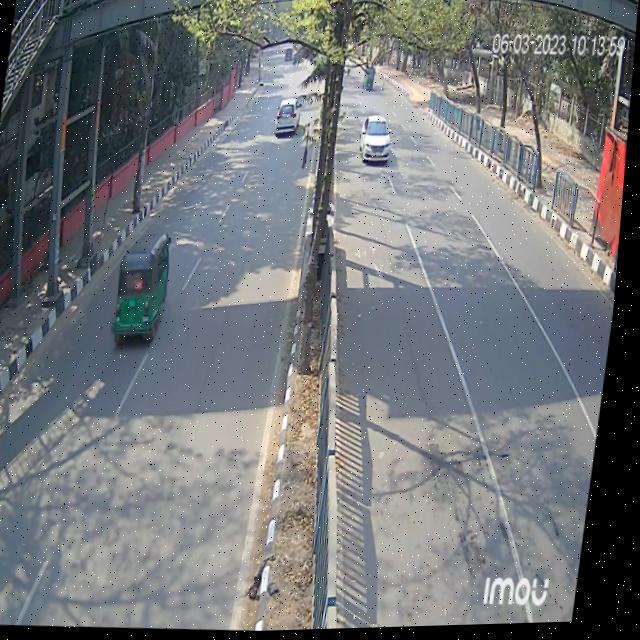cng: (109, 210, 189, 351)
